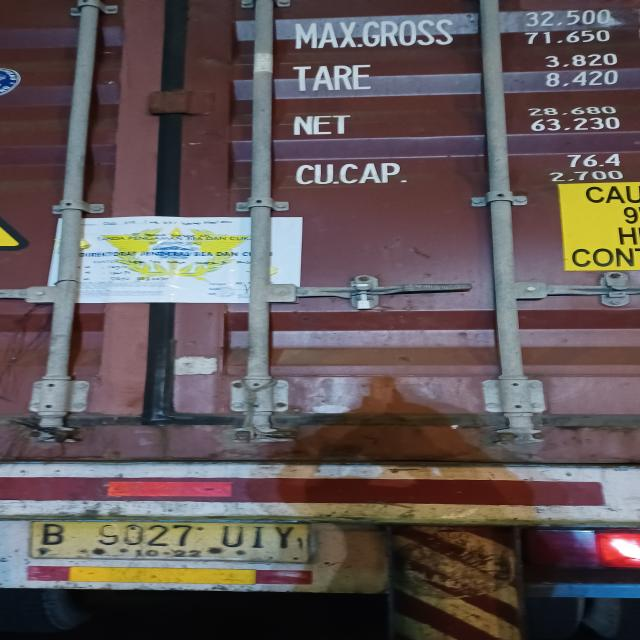seal: (350, 283, 376, 312)
